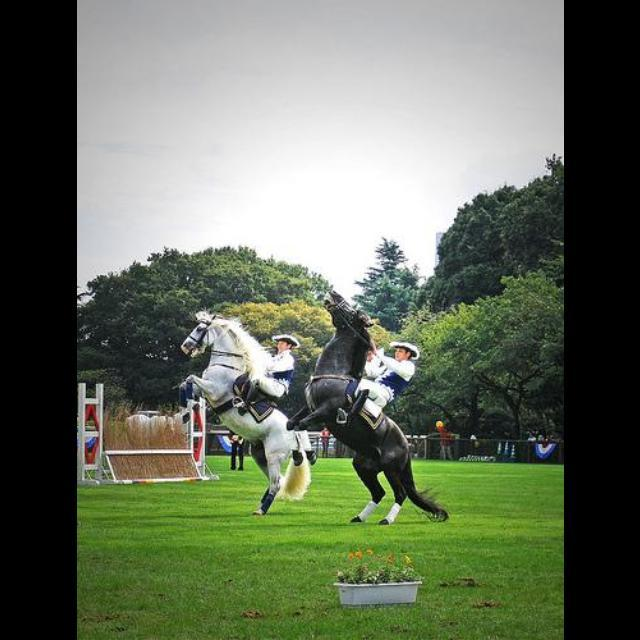horse: (285, 290, 451, 526), (180, 314, 288, 516)
person: (336, 334, 420, 426), (228, 335, 300, 415), (230, 428, 244, 470), (440, 427, 454, 461), (321, 428, 329, 458), (520, 428, 538, 438)
potted plant: (334, 546, 424, 606)
